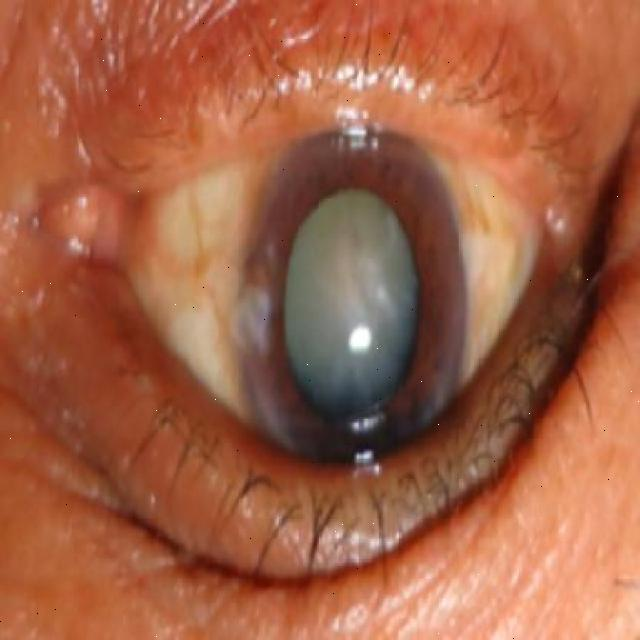Cataract: (234, 124, 468, 492)
